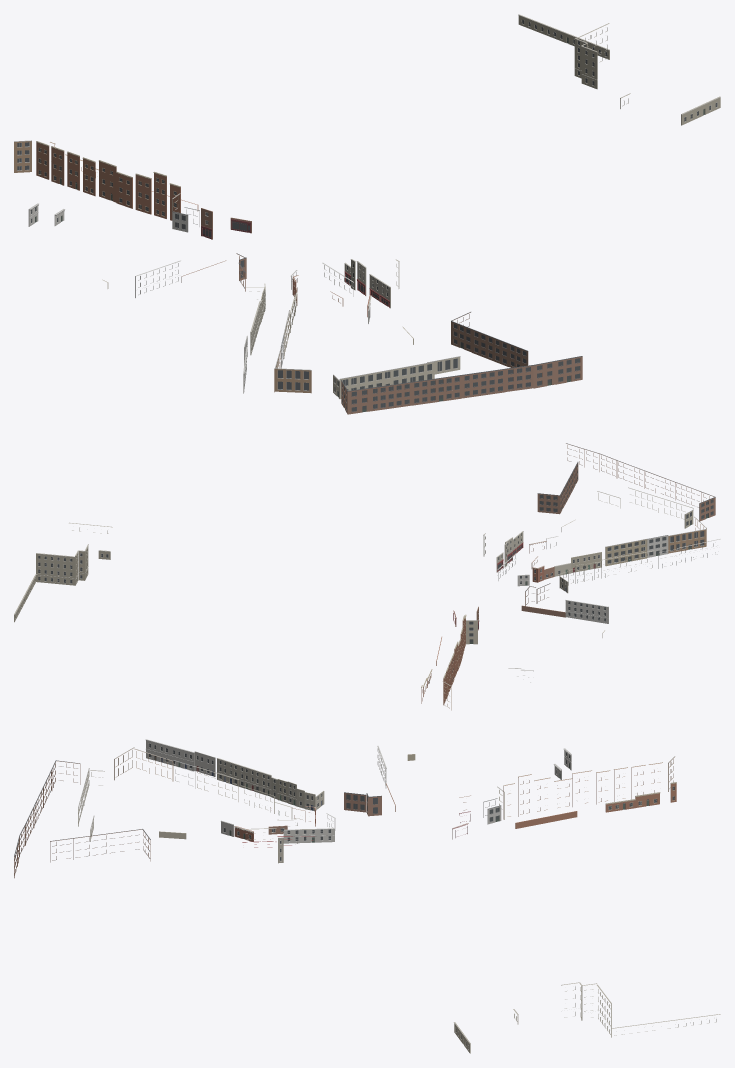
The picture shows the model from 3 angles, top to bottom: view 1: azimuth 30°, elevation 25°; view 2: azimuth 150°, elevation 25°; view 3: azimuth 270°, elevation 25°; orthographic projection. The views are drawn at different scales.
Parts seen in each view (by area): view 1: f:way/87043727, f:way/138164882, f:way/761701363, f:way/119612805, f:way/119612809, f:way/143469256, f:way/143469324; view 2: f:way/761701363, f:way/87043727, f:way/138164882, f:way/143469325, f:way/119612809, f:way/143469259, f:way/143469324, f:way/143469256, f:way/143469327, f:way/119612805; view 3: f:way/138164882, f:way/1023982437, f:way/192978597, f:way/761701363, f:way/87043727, f:way/143469303, f:way/143469265, f:way/119612805.
Boxes of the visible parts, box(x1,y1,x2,y2) form: f:way/87043727: box(341, 356, 582, 414); f:way/138164882: box(36, 141, 198, 220); f:way/761701363: box(518, 14, 720, 125); f:way/119612805: box(333, 326, 460, 399); f:way/119612809: box(451, 312, 528, 367); f:way/143469256: box(344, 259, 399, 308); f:way/143469324: box(274, 348, 311, 393); f:way/761701363: box(14, 522, 112, 622); f:way/87043727: box(566, 443, 715, 521); f:way/138164882: box(421, 614, 466, 705); f:way/143469325: box(605, 539, 647, 566); f:way/119612809: box(537, 462, 578, 514); f:way/143469259: box(565, 600, 608, 623); f:way/143469324: box(668, 516, 706, 553); f:way/143469256: box(483, 531, 523, 572); f:way/143469327: box(571, 552, 601, 572); f:way/119612805: box(561, 487, 693, 531); f:way/138164882: box(503, 762, 676, 828); f:way/1023982437: box(217, 758, 271, 796); f:way/192978597: box(145, 739, 194, 771); f:way/761701363: box(454, 982, 720, 1053); f:way/87043727: box(14, 760, 80, 878); f:way/143469303: box(283, 813, 335, 843); f:way/143469265: box(344, 783, 395, 816); f:way/119612805: box(78, 768, 186, 841).
Bounding box in the file's own units: 253 × 16.58 × 256.
